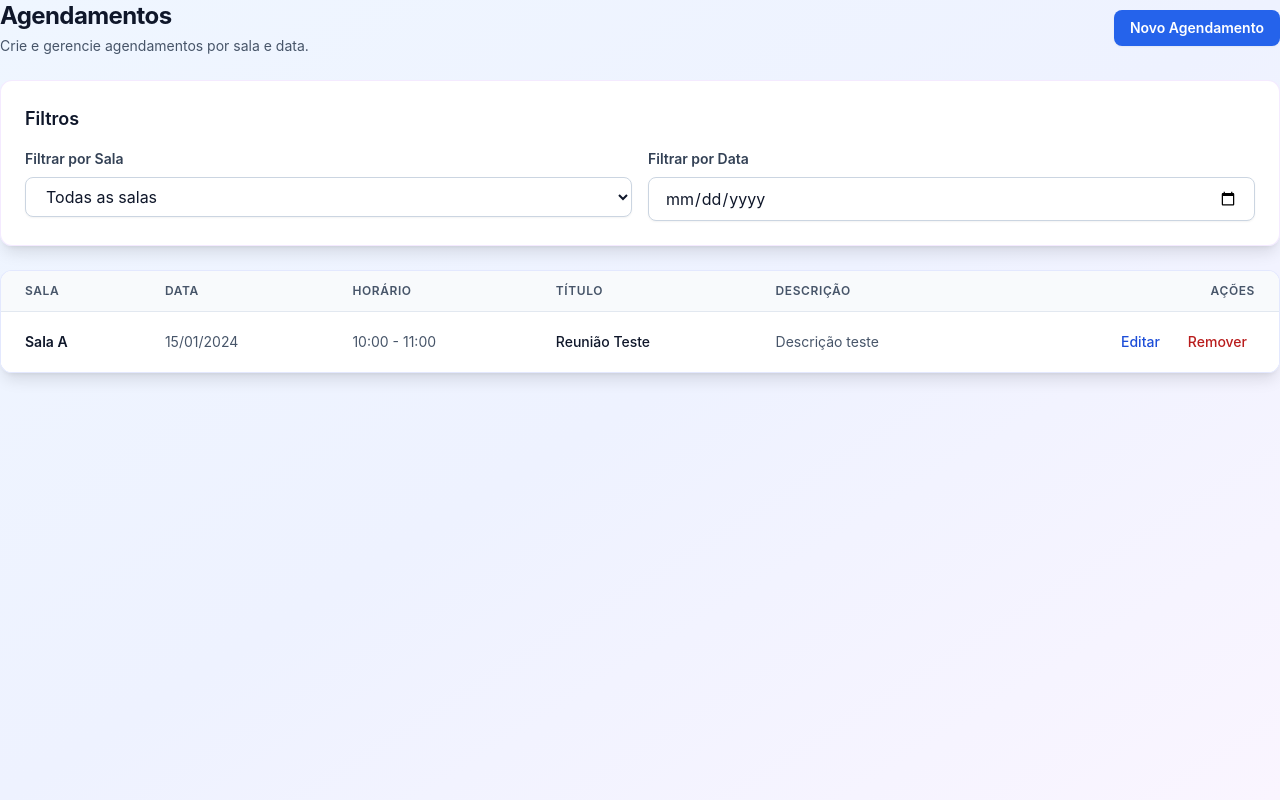
Test: Testes Frontend - Gerenciar Agendamentos › Deve abrir formulário ao clicar em "Novo Agendamento"
The image size is (1280, 800).
Click the button "Novo Agendamento": coordinates (1197, 28) x1=1114 y1=10 x2=1279 y2=46
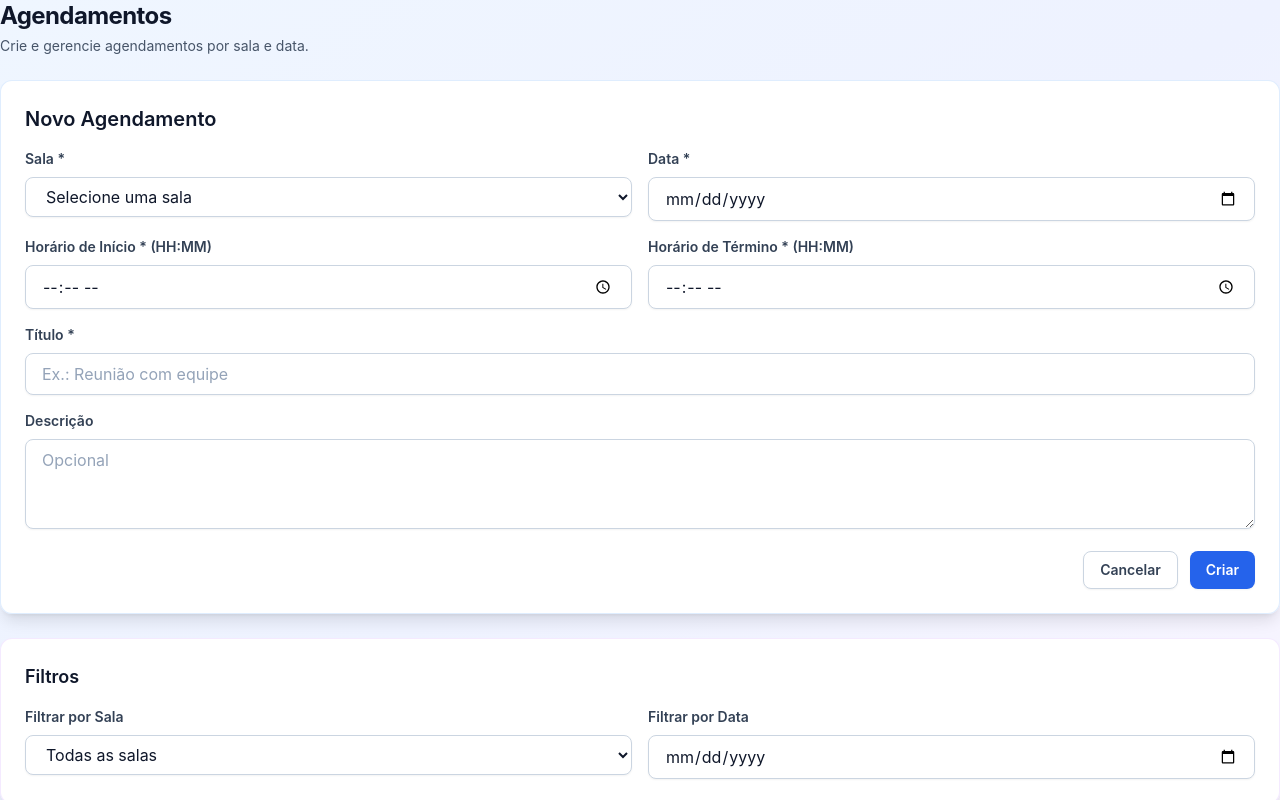
Now the dropdown labelled "Sala *" is shown, box x1=25 y1=177 x2=632 y2=217
Now the time field labelled "Horário de Início * (HH:MM)" is shown, box x1=25 y1=265 x2=632 y2=309
Now the time field labelled "Horário de Término * (HH:MM)" is shown, box x1=648 y1=265 x2=1255 y2=309
